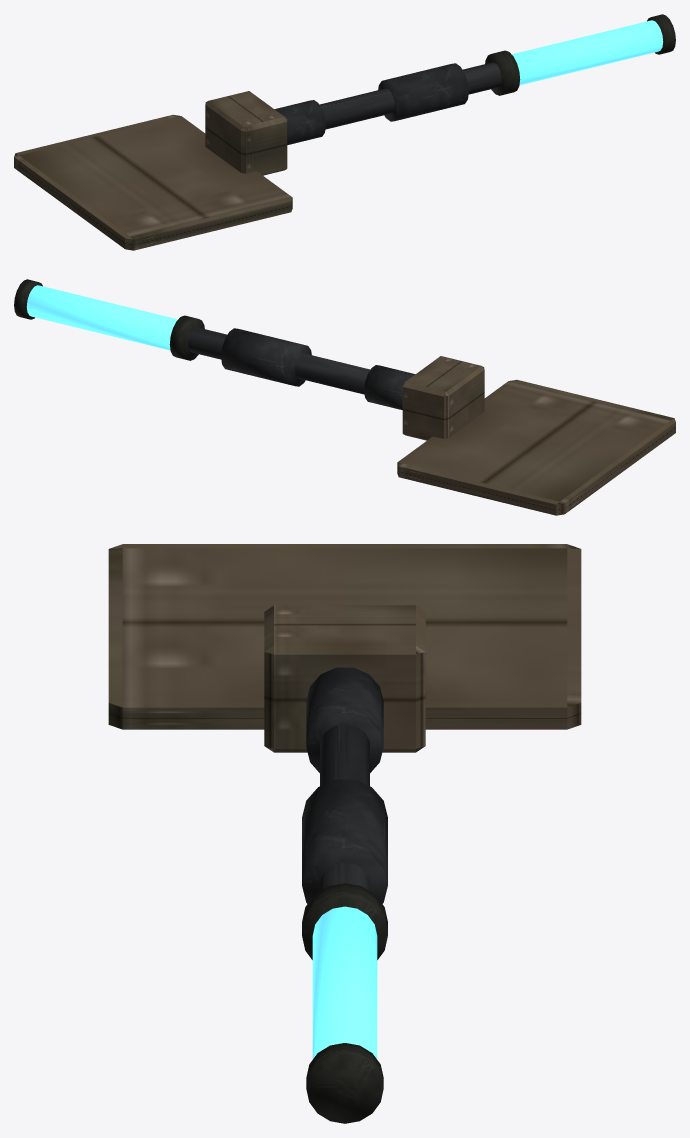
Rendered from gun_scorpion_cannon_blue.glb.
3 renders of one model, top to bottom at view 1: azimuth 30°, elevation 25°; view 2: azimuth 150°, elevation 25°; view 3: azimuth 270°, elevation 25°, orthographic. The views are drawn at different scales.
Visible parts, largest first — view 1: gun_scorpion_cannon_blue; view 2: gun_scorpion_cannon_blue; view 3: gun_scorpion_cannon_blue.
Boxes of the visible parts, x1,y1,x2,y2 form: gun_scorpion_cannon_blue: [14, 14, 675, 250]; gun_scorpion_cannon_blue: [14, 279, 675, 515]; gun_scorpion_cannon_blue: [108, 544, 581, 1123].
Bounding box in the file's own units: 6.41 × 0.585 × 2.2.
Materials: 4 (3 with a texture image).
